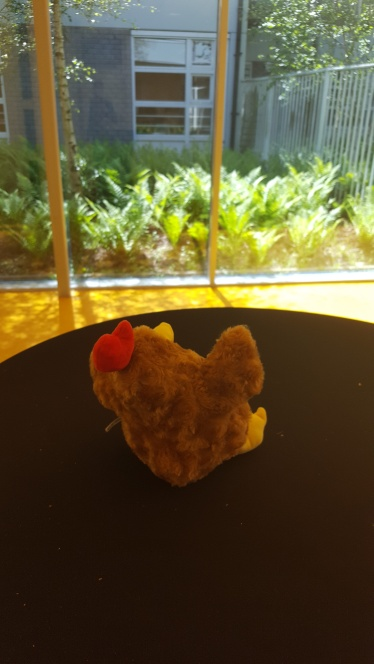chicken_left: (87, 318, 269, 484)
